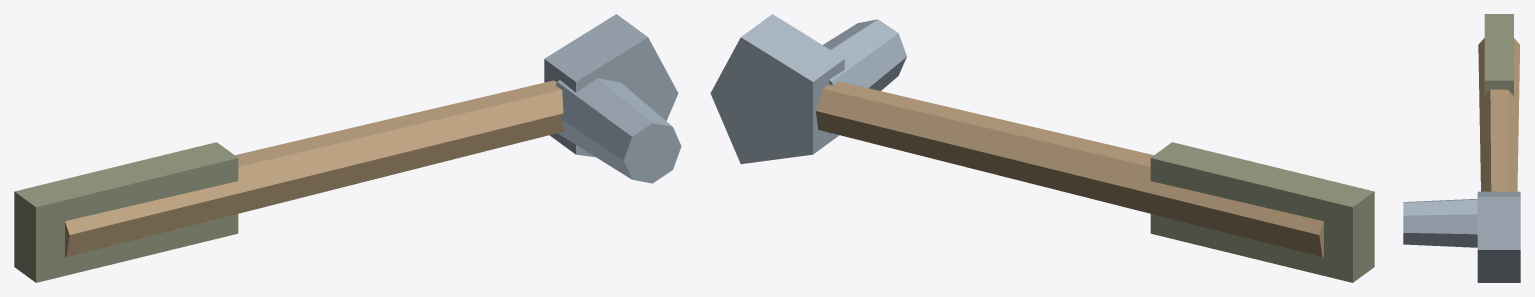
File: wipe-day-survival-island-hammer-bd648943__27491.glb
The picture shows the model from 3 angles, left to right: view 1: azimuth 30°, elevation 25°; view 2: azimuth 150°, elevation 25°; view 3: azimuth 270°, elevation 25°; orthographic projection. The views are drawn at different scales.
Visible parts, largest first — view 1: hammer; view 2: hammer; view 3: hammer.
Boxes of the visible parts, <box> form: hammer: <box>14,14,681,282</box>; hammer: <box>710,14,1374,282</box>; hammer: <box>1403,14,1520,282</box>.
Bounding box in the file's own units: 0.441 × 0.084 × 0.104.
